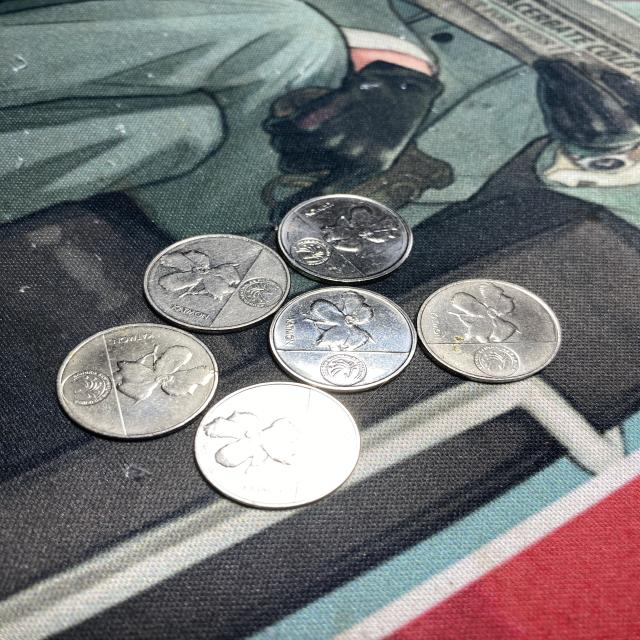25Cent_New_Back: (112, 341, 201, 403), (447, 278, 532, 336), (303, 292, 387, 349), (151, 251, 238, 300), (322, 202, 396, 258)
